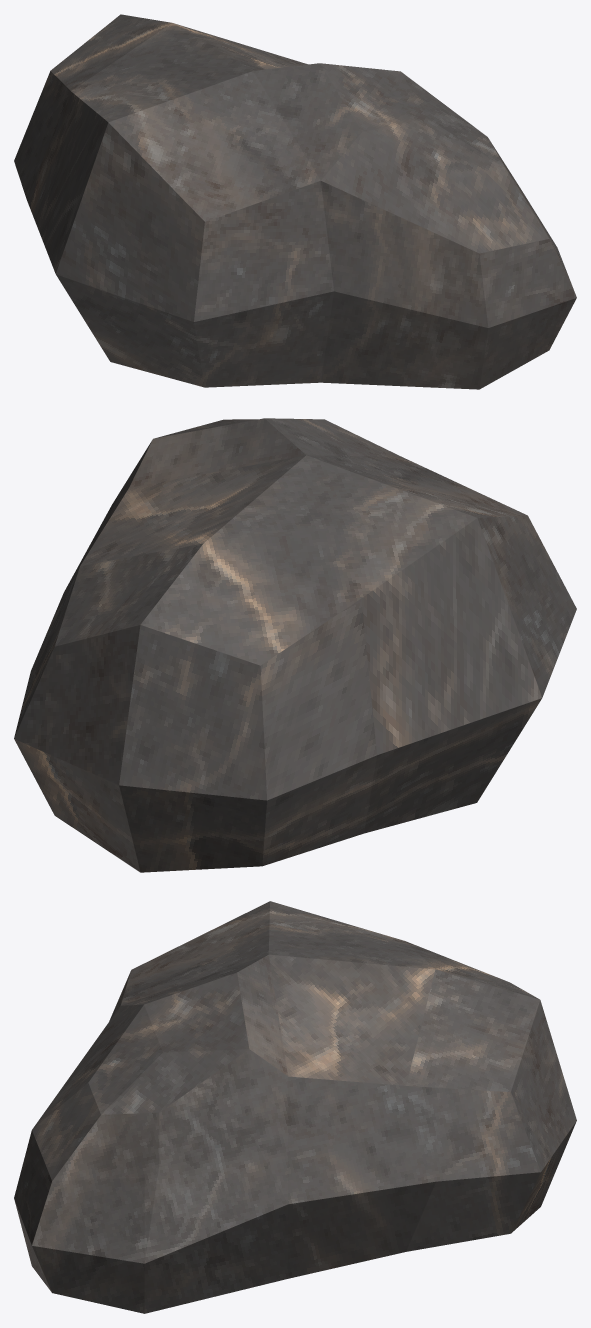
Rendered from Rock3.glb.
3 renders of one model, top to bottom at view 1: azimuth 30°, elevation 25°; view 2: azimuth 150°, elevation 25°; view 3: azimuth 270°, elevation 25°, orthographic. The views are drawn at different scales.
Parts seen in each view (by area): view 1: Cube; view 2: Cube; view 3: Cube.
Part boxes in pixels (bbox=[...]): Cube: bbox=[14, 14, 576, 389]; Cube: bbox=[14, 418, 576, 872]; Cube: bbox=[14, 901, 576, 1313].
Size of the model in its own units: 4.33 by 2.65 by 4.79.
1 material, 1 textured.
